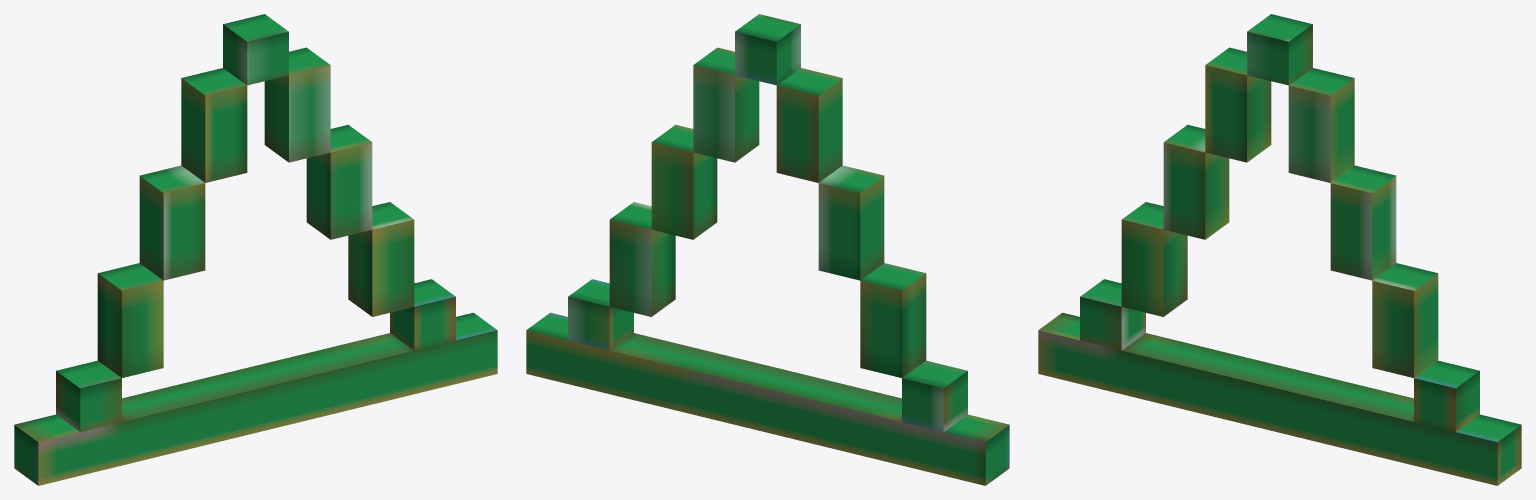
The model's file is Matrix_7.dae.
3 renders of one model, left to right at view 1: azimuth 30°, elevation 25°; view 2: azimuth 150°, elevation 25°; view 3: azimuth 330°, elevation 25°, orthographic.
Visible parts, largest first — view 1: Matrix_7; view 2: Matrix_7; view 3: Matrix_7.
Part boxes in pixels (x1,y1,x2,y2): Matrix_7: (14,14,497,485); Matrix_7: (526,14,1009,485); Matrix_7: (1038,14,1521,485).
Size of the model in its own units: 11 by 9 by 1.
